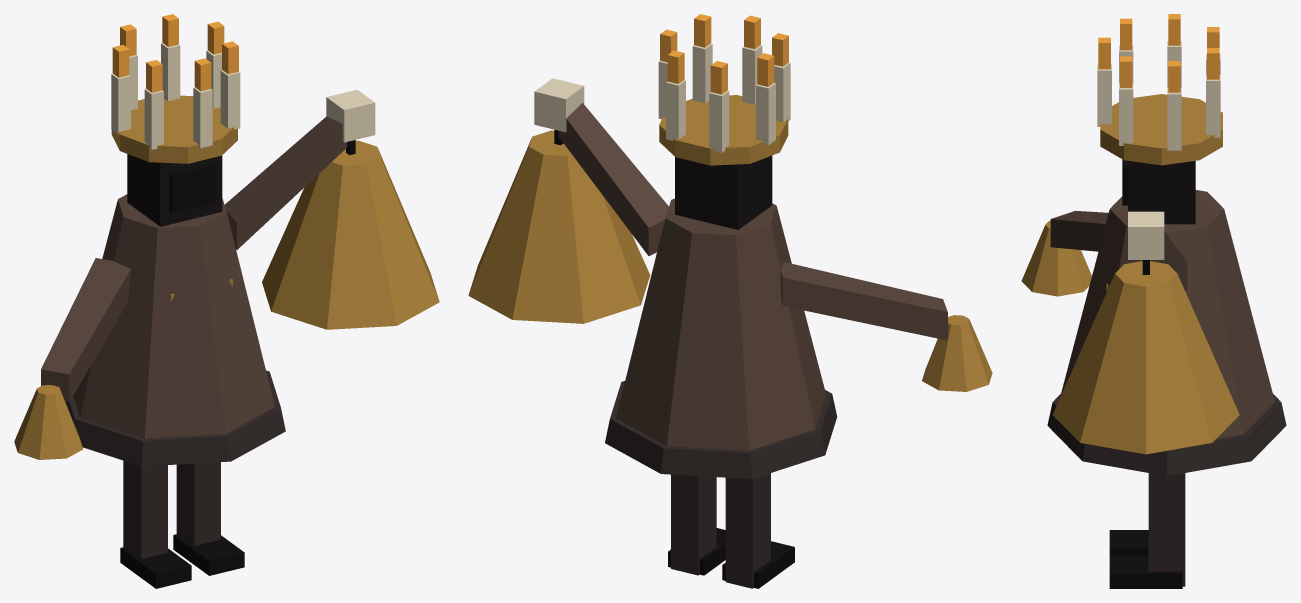
File: HollowCourtRegent.glb
3 renders of one model, left to right at view 1: azimuth 30°, elevation 25°; view 2: azimuth 150°, elevation 25°; view 3: azimuth 270°, elevation 25°, orthographic. The views are drawn at different scales.
Visible parts, largest first — view 1: HollowCourtRegent; view 2: HollowCourtRegent; view 3: HollowCourtRegent.
Boxes of the visible parts, left/top/right/bottom form: HollowCourtRegent: left=14, top=14, right=439, bottom=588; HollowCourtRegent: left=468, top=14, right=992, bottom=588; HollowCourtRegent: left=1021, top=14, right=1286, bottom=588.
Bounding box in the file's own units: 5.15 × 5.59 × 2.55.
Materials: 1 (1 with a texture image).
